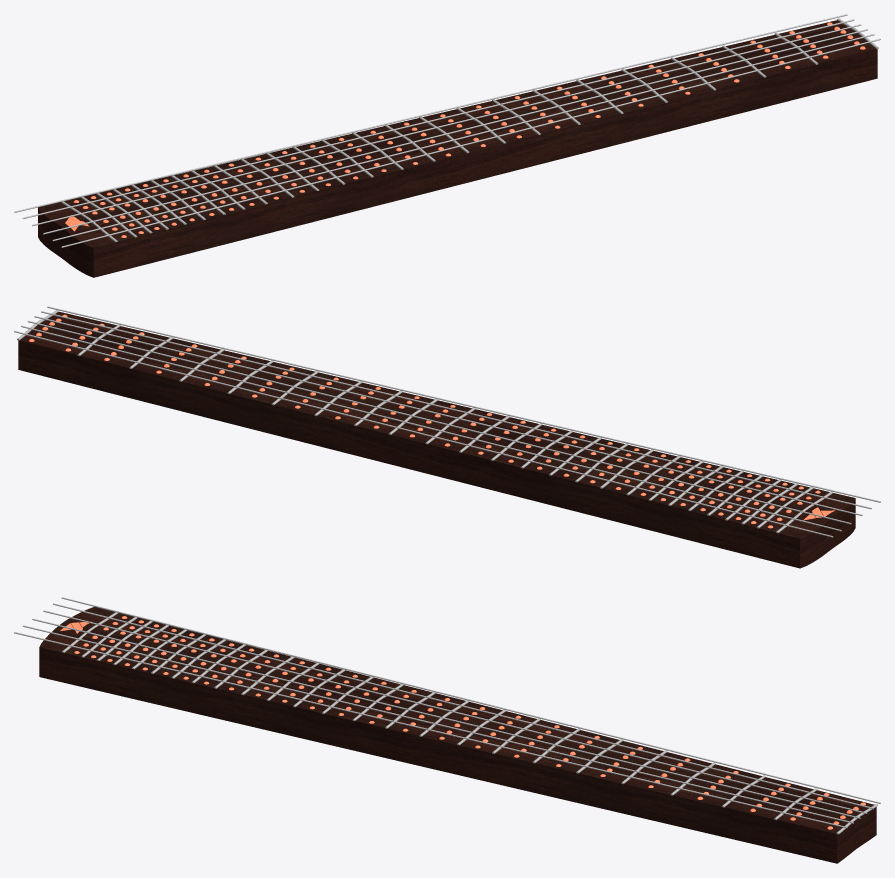
Rendered from litejam-rbb-guitar.glb.
The picture shows the model from 3 angles, top to bottom: view 1: azimuth 30°, elevation 25°; view 2: azimuth 150°, elevation 25°; view 3: azimuth 330°, elevation 25°; orthographic projection.
Visible parts, largest first — view 1: neck, s1, s2, s3, s4, s0, s5; view 2: neck, s5, s4, s3, s2, s1, s0; view 3: neck, s5, s4, s3, s2, s1, s0.
Boxes of the visible parts, left/top/right/bottom form: neck: left=38, top=20, right=877, bottom=277; s1: left=22, top=19, right=854, bottom=218; s2: left=32, top=24, right=861, bottom=226; s3: left=43, top=29, right=867, bottom=234; s4: left=52, top=34, right=874, bottom=241; s0: left=14, top=14, right=847, bottom=212; s5: left=61, top=38, right=880, bottom=247; neck: left=18, top=311, right=855, bottom=568; s5: left=47, top=306, right=880, bottom=502; s4: left=41, top=311, right=871, bottom=509; s3: left=34, top=316, right=862, bottom=515; s2: left=27, top=320, right=851, bottom=524; s1: left=21, top=325, right=841, bottom=531; s0: left=14, top=331, right=833, bottom=537; neck: left=39, top=607, right=876, bottom=863; s5: left=14, top=632, right=847, bottom=828; s4: left=23, top=625, right=853, bottom=823; s3: left=32, top=618, right=860, bottom=818; s2: left=43, top=610, right=867, bottom=813; s1: left=53, top=603, right=873, bottom=809; s0: left=61, top=597, right=880, bottom=803.
Bounding box in the file's own units: 5.12 × 0.212 × 0.5979.
Materials: 3 (1 with a texture image).
